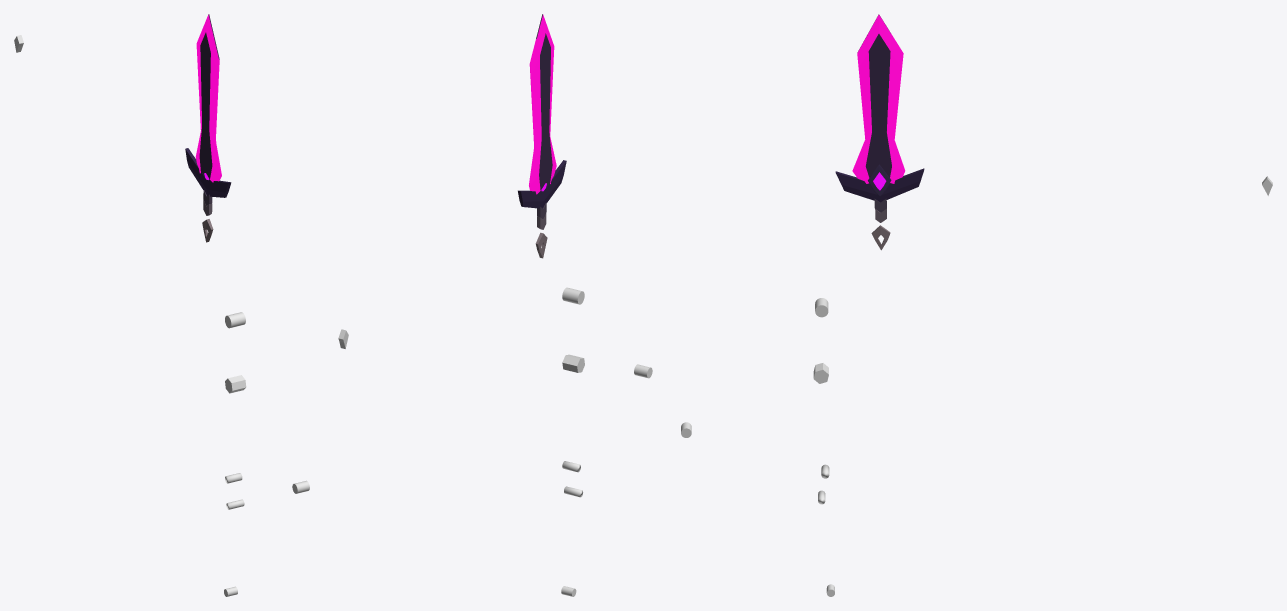
Rendered from SWORD03.glb.
The picture shows the model from 3 angles, left to right: view 1: azimuth 30°, elevation 25°; view 2: azimuth 150°, elevation 25°; view 3: azimuth 270°, elevation 25°; orthographic projection. The views are drawn at different scales.
Parts seen in each view (by area): view 1: Cube.042, Cube.039; view 2: Cube.042, Cube.039; view 3: Cube.042, Cube.039.
Boxes of the visible parts, bbox=[...] form: Cube.042: bbox=[195, 14, 221, 182]; Cube.039: bbox=[185, 148, 231, 197]; Cube.042: bbox=[529, 14, 556, 194]; Cube.039: bbox=[518, 160, 566, 208]; Cube.042: bbox=[852, 14, 905, 183]; Cube.039: bbox=[835, 168, 924, 202].
Size of the model in its own units: 0.2345 by 8.6 by 7.94.
